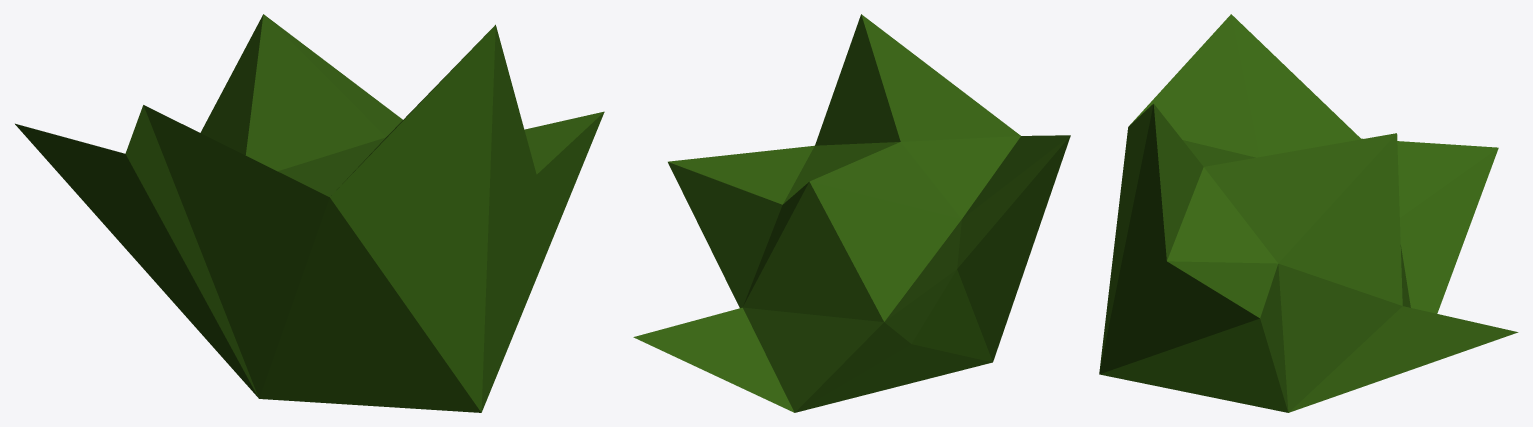
The model's file is BushAutumn1_Alt3.fbx.
The picture shows the model from 3 angles, left to right: view 1: azimuth 30°, elevation 25°; view 2: azimuth 150°, elevation 25°; view 3: azimuth 270°, elevation 25°; orthographic projection. The views are drawn at different scales.
Visible parts, largest first — view 1: BushAutumn1_Alt3; view 2: BushAutumn1_Alt3; view 3: BushAutumn1_Alt3.
Boxes of the visible parts, x1=… form: BushAutumn1_Alt3: x1=15, y1=14, x2=604, y2=412; BushAutumn1_Alt3: x1=633, y1=14, x2=1070, y2=412; BushAutumn1_Alt3: x1=1099, y1=14, x2=1518, y2=412.
Bounding box in the file's own units: 0.6828 × 0.4811 × 0.6299.
